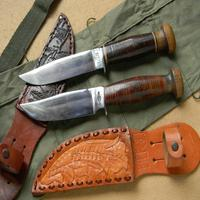knife: (18, 33, 195, 124)
